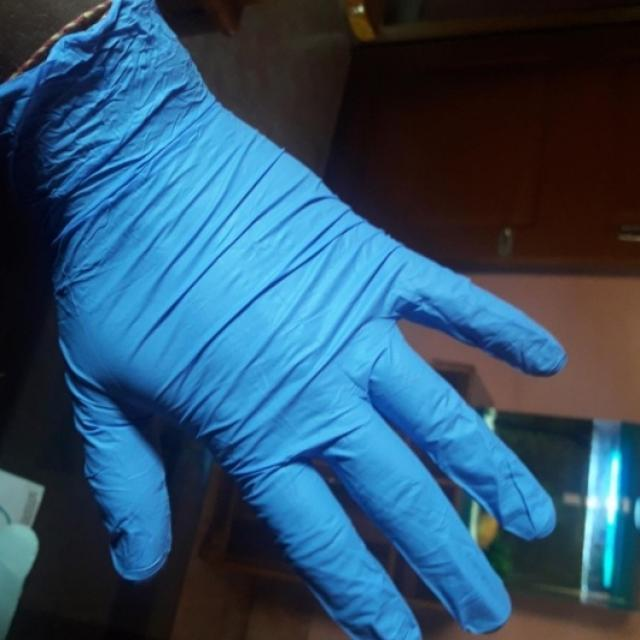gloved_hand: (0, 3, 566, 640)
